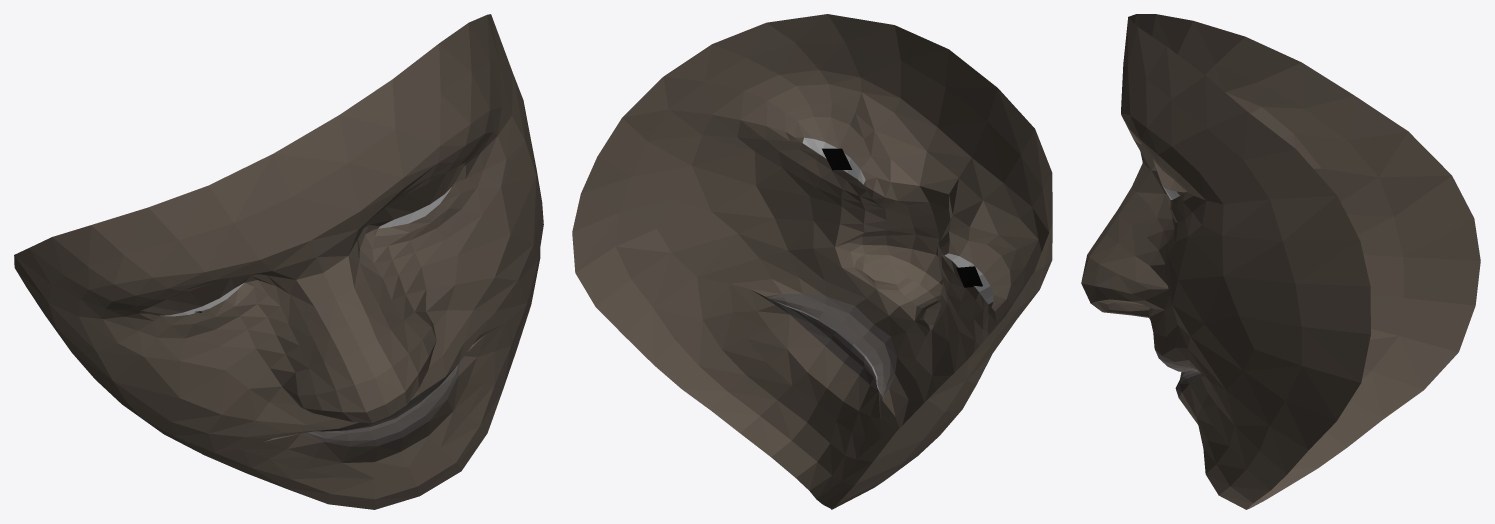
The model's file is frame_00270.obj.
The picture shows the model from 3 angles, left to right: view 1: azimuth 30°, elevation 25°; view 2: azimuth 150°, elevation 25°; view 3: azimuth 270°, elevation 25°; orthographic projection. The views are drawn at different scales.
Visible parts, largest first — view 1: face_model_with_iris; view 2: face_model_with_iris; view 3: face_model_with_iris.
Part boxes in pixels (x1=…): face_model_with_iris: x1=14, y1=14, x2=543, y2=509; face_model_with_iris: x1=572, y1=14, x2=1052, y2=509; face_model_with_iris: x1=1081, y1=14, x2=1480, y2=509.
Bounding box in the file's own units: 0.561 × 0.5309 × 0.417.
